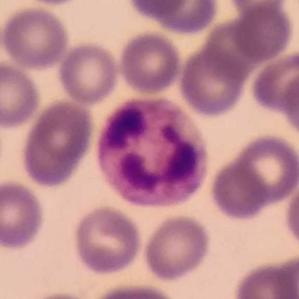Neutrophil: (91, 91, 213, 211)
RBC: (18, 97, 97, 189), (214, 131, 299, 212), (175, 41, 250, 119), (70, 203, 144, 277), (140, 212, 214, 283), (0, 3, 72, 71), (55, 39, 123, 106), (116, 29, 184, 96), (207, 155, 272, 223), (230, 1, 295, 63), (247, 47, 299, 116), (0, 178, 47, 251), (0, 59, 43, 130), (230, 258, 299, 299), (143, 0, 220, 36), (88, 281, 183, 299), (281, 173, 299, 255), (124, 0, 193, 21), (280, 68, 299, 144), (224, 0, 292, 21), (269, 252, 299, 298)
